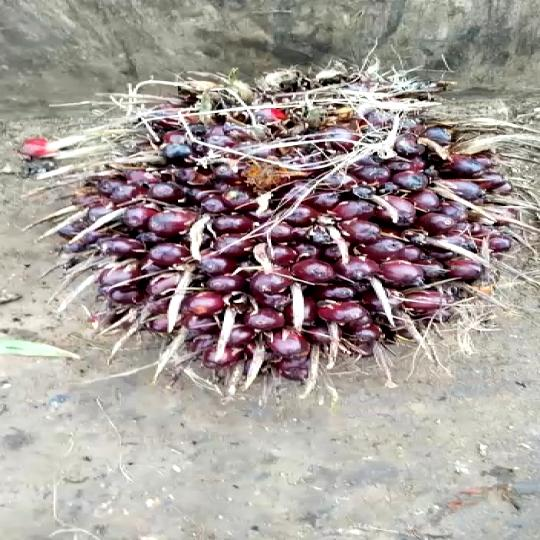kurang masak: (84, 55, 540, 369)
